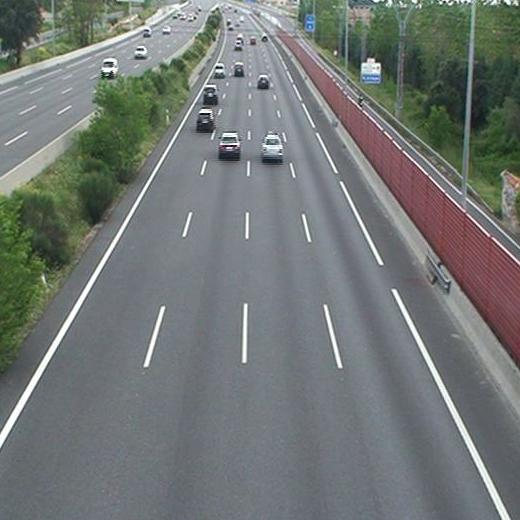car: (261, 134, 282, 158), (219, 134, 240, 155), (197, 109, 214, 130), (203, 85, 217, 101), (214, 63, 225, 77), (233, 63, 245, 75), (257, 75, 269, 87), (234, 40, 243, 50)
